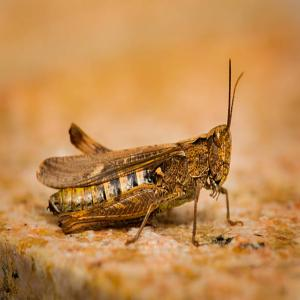locust: (42, 110, 248, 239)
